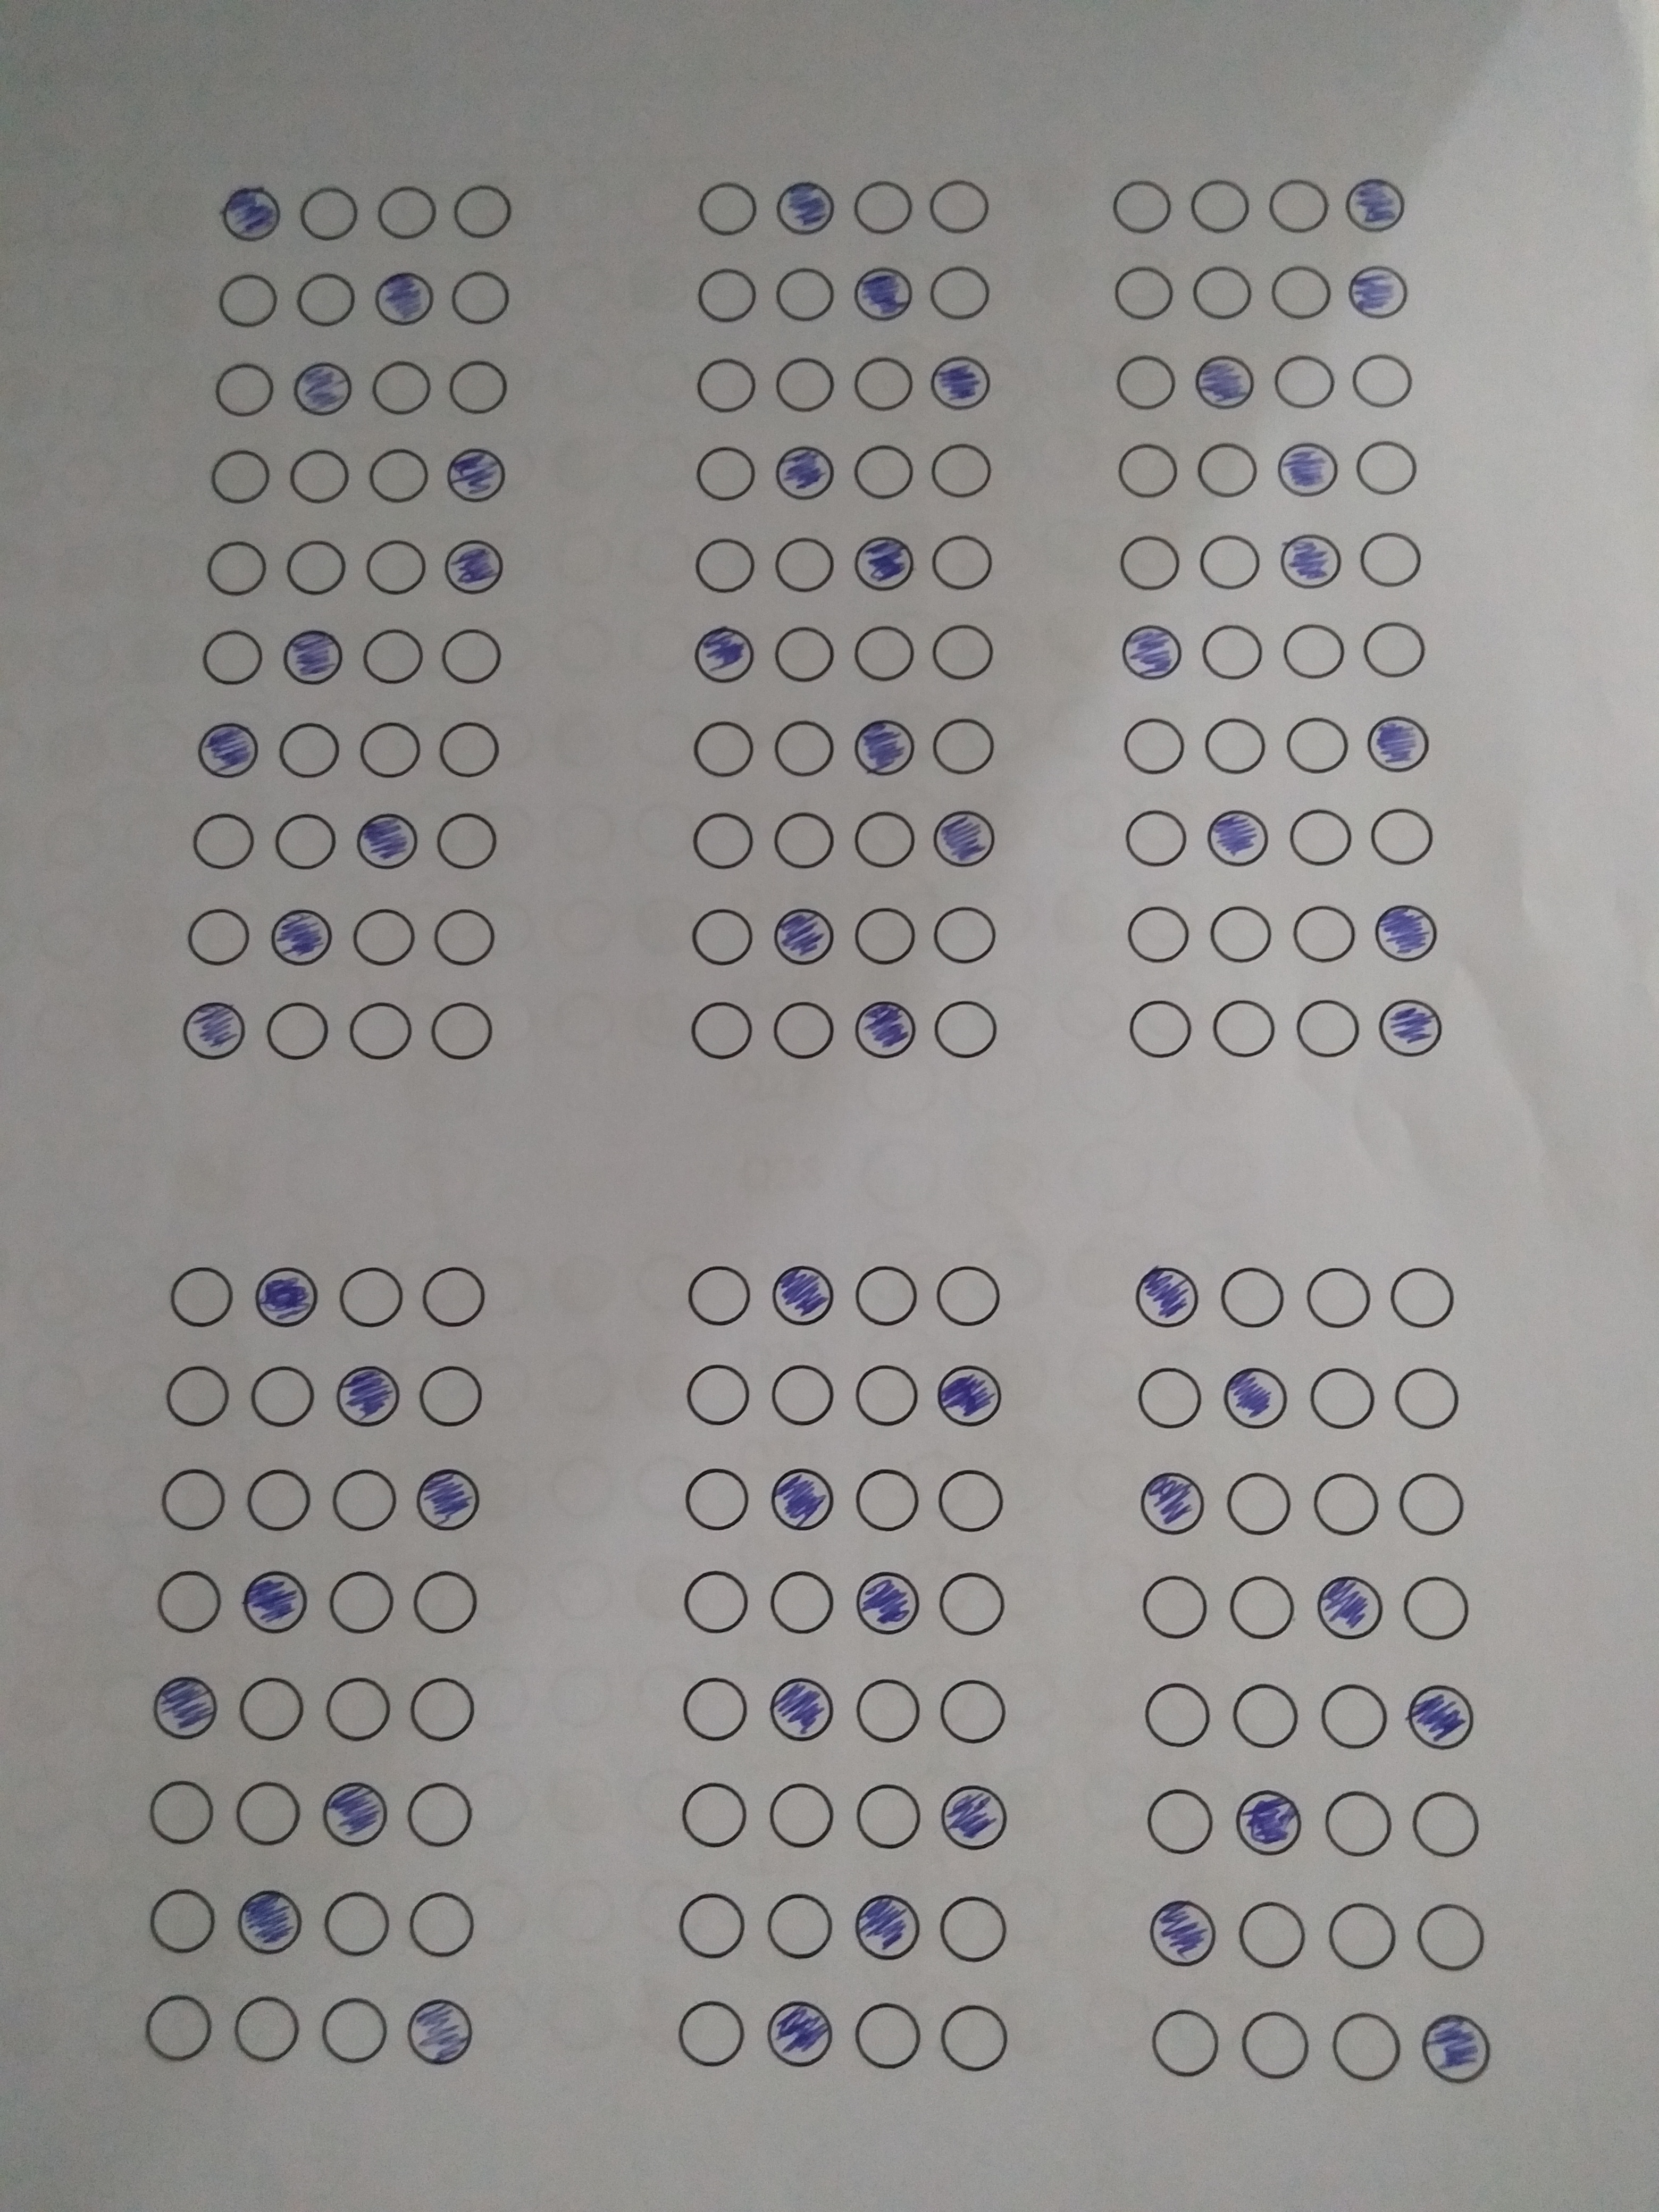not-c: (314, 1993, 392, 2067), (401, 1780, 479, 1855), (152, 1569, 230, 1644), (324, 1564, 403, 1639), (410, 1569, 488, 1644), (411, 1355, 490, 1430), (317, 1468, 396, 1543), (152, 1463, 230, 1538), (934, 2000, 1011, 2074), (674, 1890, 751, 1965), (404, 1883, 481, 1958), (234, 1778, 310, 1853), (401, 1778, 477, 1853), (410, 1676, 486, 1750), (162, 1256, 239, 1331), (1141, 2005, 1220, 2078), (1234, 2012, 1312, 2085), (1323, 2012, 1401, 2085), (849, 2000, 927, 2073), (760, 1893, 838, 1966), (938, 1892, 1016, 1965), (139, 1994, 218, 2067), (138, 1775, 216, 1848), (321, 1676, 399, 1749), (239, 1470, 317, 1543), (162, 1359, 240, 1432), (329, 1263, 408, 1336), (669, 2000, 746, 2073), (225, 1994, 301, 2067), (139, 1885, 216, 1958), (321, 1890, 397, 1963), (235, 1674, 312, 1747), (247, 1359, 324, 1432), (418, 1258, 495, 1331), (688, 531, 763, 601), (291, 179, 364, 244), (368, 179, 441, 244), (451, 181, 525, 246), (288, 268, 361, 333), (211, 268, 284, 333), (207, 359, 281, 423), (368, 361, 441, 425), (277, 448, 350, 512), (204, 448, 277, 512), (274, 536, 347, 601), (357, 624, 430, 688), (199, 625, 272, 690), (690, 174, 763, 239), (847, 172, 920, 237), (922, 176, 995, 240), (692, 354, 765, 418), (770, 354, 843, 418), (852, 352, 925, 416), (852, 442, 925, 507), (692, 444, 765, 509), (770, 533, 843, 597), (929, 529, 1002, 594), (925, 617, 999, 681), (770, 622, 843, 686), (688, 718, 762, 782), (932, 716, 1006, 780), (847, 808, 920, 873), (769, 808, 842, 873), (437, 719, 511, 784), (355, 719, 429, 784), (183, 812, 256, 876), (347, 904, 420, 968), (425, 904, 498, 968), (179, 906, 253, 970), (345, 995, 418, 1059), (427, 1000, 500, 1064), (688, 906, 762, 970), (770, 998, 843, 1062), (845, 902, 918, 967), (934, 993, 1007, 1057), (1122, 998, 1195, 1062), (1295, 996, 1368, 1061), (1206, 996, 1279, 1061), (1121, 902, 1194, 967), (1293, 900, 1366, 965), (1283, 805, 1356, 869), (1117, 806, 1190, 871), (1121, 718, 1194, 782), (1281, 716, 1354, 780), (1361, 620, 1434, 685), (1277, 620, 1351, 685), (1195, 618, 1269, 683), (1115, 529, 1188, 594), (1199, 529, 1272, 594), (1354, 528, 1427, 592), (1195, 437, 1269, 502), (1107, 350, 1180, 415), (1345, 352, 1419, 416), (1112, 263, 1185, 327), (1103, 172, 1176, 237), (1185, 172, 1258, 237), (1263, 178, 1337, 242), (852, 1264, 925, 1329), (936, 1264, 1009, 1329), (856, 1364, 929, 1428), (765, 1364, 838, 1428), (681, 1364, 755, 1428), (685, 1467, 758, 1531), (850, 1467, 924, 1531), (936, 1468, 1009, 1533), (936, 1679, 1009, 1743), (852, 1679, 925, 1743), (683, 1677, 756, 1742), (769, 1569, 842, 1634), (676, 1571, 749, 1635), (678, 1782, 751, 1846), (1218, 1263, 1291, 1327), (1307, 1366, 1380, 1430), (1398, 1474, 1471, 1538), (1403, 1575, 1476, 1639), (1223, 1575, 1297, 1639), (1138, 1575, 1211, 1639), (1143, 1683, 1216, 1747), (1316, 1684, 1389, 1749), (1321, 1792, 1394, 1857), (1143, 1789, 1216, 1853), (1324, 1905, 1398, 1970), (450, 270, 521, 334), (361, 444, 432, 509), (204, 538, 275, 603), (361, 535, 432, 599), (441, 622, 512, 686), (927, 260, 999, 324), (769, 263, 840, 327), (694, 265, 765, 329), (925, 437, 997, 502), (849, 618, 920, 683), (770, 716, 842, 780), (688, 810, 760, 874), (272, 718, 343, 782), (267, 812, 338, 876), (436, 812, 507, 876), (688, 998, 760, 1062), (931, 902, 1002, 967), (1209, 904, 1281, 968), (1366, 805, 1438, 869), (1204, 716, 1276, 780), (1270, 350, 1342, 415), (1270, 263, 1342, 327), (1188, 261, 1260, 326), (687, 1266, 758, 1331), (769, 1782, 840, 1846), (856, 1782, 927, 1846), (1303, 1266, 1375, 1331), (1392, 1366, 1464, 1430), (1133, 1367, 1204, 1432), (1222, 1472, 1293, 1536), (1310, 1472, 1382, 1536), (1229, 1683, 1300, 1747), (448, 357, 521, 420), (1352, 434, 1425, 496), (1112, 439, 1185, 502), (938, 1571, 1011, 1634), (1417, 1905, 1490, 1968), (1237, 1905, 1310, 1968), (265, 1001, 336, 1064), (1385, 1268, 1457, 1331), (1408, 1792, 1480, 1855)
taken-c: (1419, 2012, 1495, 2085), (849, 1892, 927, 1961), (399, 1996, 477, 2066), (230, 1888, 308, 1958), (145, 1672, 223, 1742), (934, 1780, 1012, 1850), (765, 1676, 842, 1745), (762, 2000, 838, 2069), (1141, 1898, 1218, 1968), (1230, 1789, 1307, 1858), (1401, 1681, 1478, 1750), (319, 1778, 396, 1848), (235, 1568, 312, 1637), (850, 1569, 927, 1639), (1310, 1571, 1387, 1641), (767, 1263, 840, 1327), (1342, 260, 1415, 324), (1187, 350, 1260, 415), (1270, 437, 1344, 502), (922, 352, 995, 416), (845, 263, 918, 327), (772, 437, 845, 502), (286, 359, 359, 423), (437, 442, 511, 507), (437, 535, 511, 599), (845, 531, 918, 596), (1276, 529, 1349, 594), (1115, 622, 1188, 686), (1361, 711, 1434, 775), (688, 624, 762, 688), (927, 806, 1000, 871), (1375, 996, 1448, 1061), (274, 622, 347, 686), (350, 812, 423, 876), (263, 904, 336, 968), (1133, 1472, 1206, 1536), (411, 1467, 484, 1531), (1216, 1366, 1290, 1430), (331, 1364, 404, 1428), (249, 1264, 322, 1329), (1127, 1264, 1201, 1329), (1338, 171, 1412, 235), (767, 178, 840, 242), (214, 181, 288, 246), (368, 266, 439, 331), (1202, 806, 1274, 871), (850, 716, 922, 780), (767, 906, 838, 970), (190, 718, 261, 782), (767, 1467, 838, 1531), (932, 1364, 1004, 1428), (1368, 900, 1441, 963), (847, 996, 920, 1059), (176, 1001, 249, 1064)
